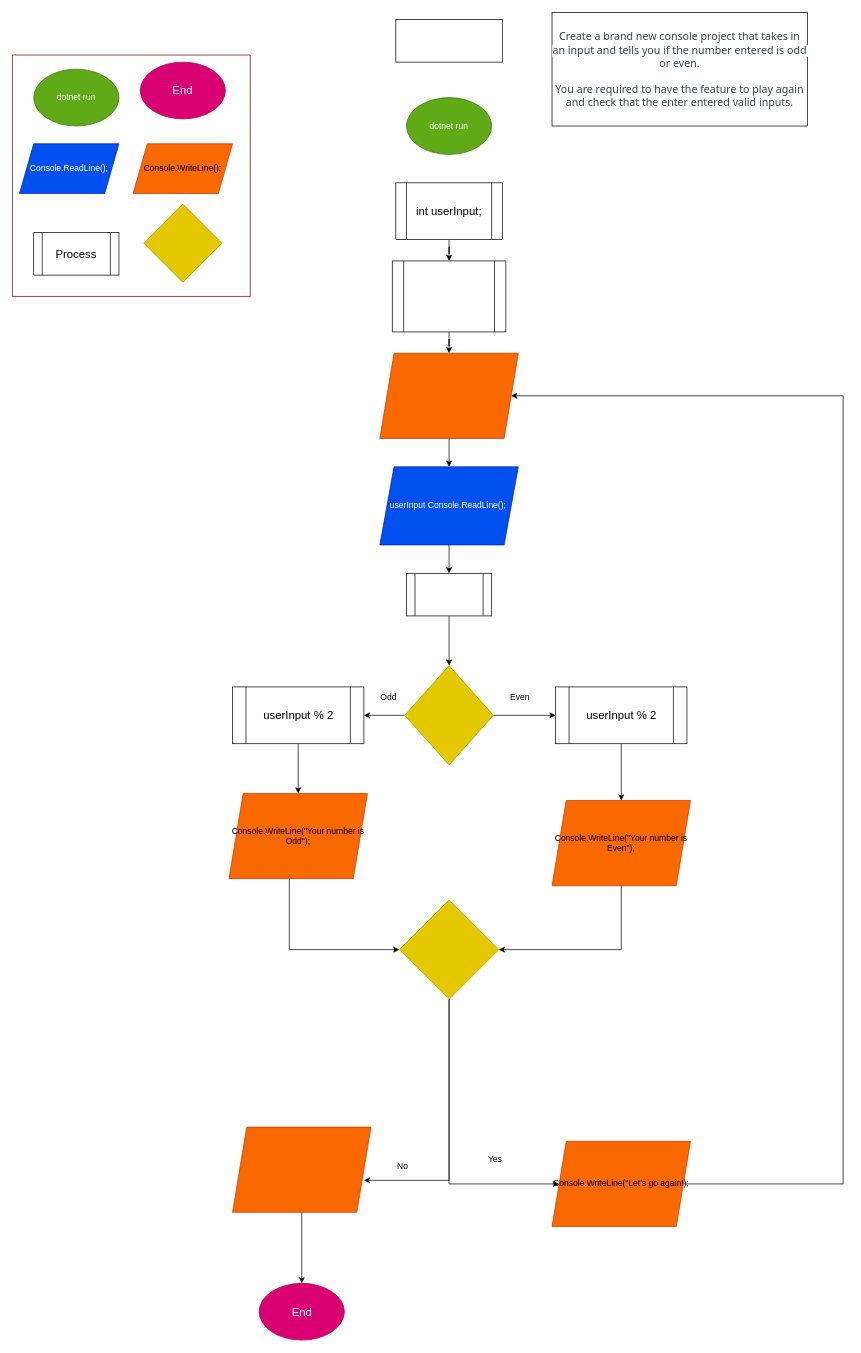
This 861x1353 diagram has some shape labels left out. The shapes that lost their labels are listed below. From the top down, each one's centre as x and y in pixels, then its label:
point (448, 40): Mini Challenge 6 - Odd or Even
point (182, 242): Decision
point (449, 296): If/else
point (448, 395): Console.WriteLine("Please enter a whole number");
point (449, 594): convert string to int .to32
point (448, 715): Is number Odd or Even
point (449, 949): Does user want to play again
point (301, 1169): Console.WriteLine("OK, Thanks for playing!);
